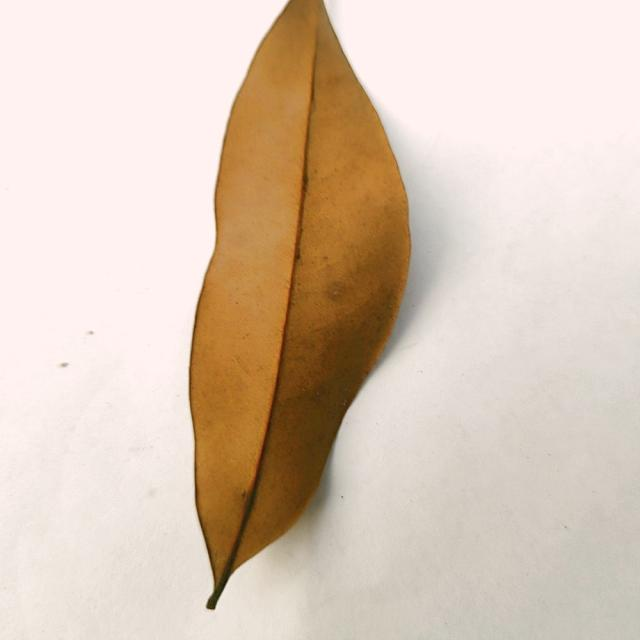Dry_Leaf-Lychee: (188, 0, 413, 611)
